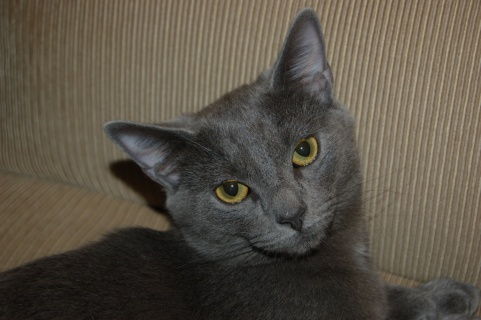Cat: (0, 2, 481, 320)
